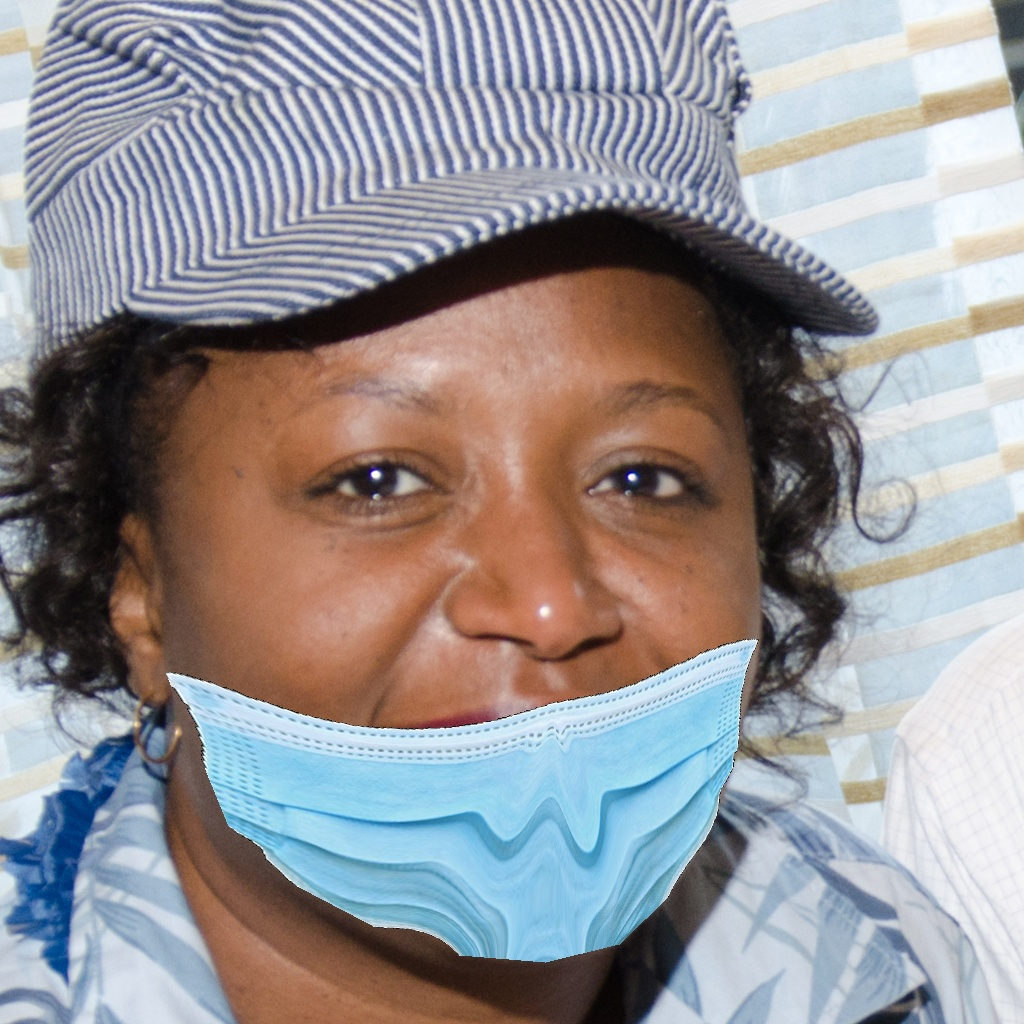mask_weared_incorrect: (139, 376, 811, 964)
